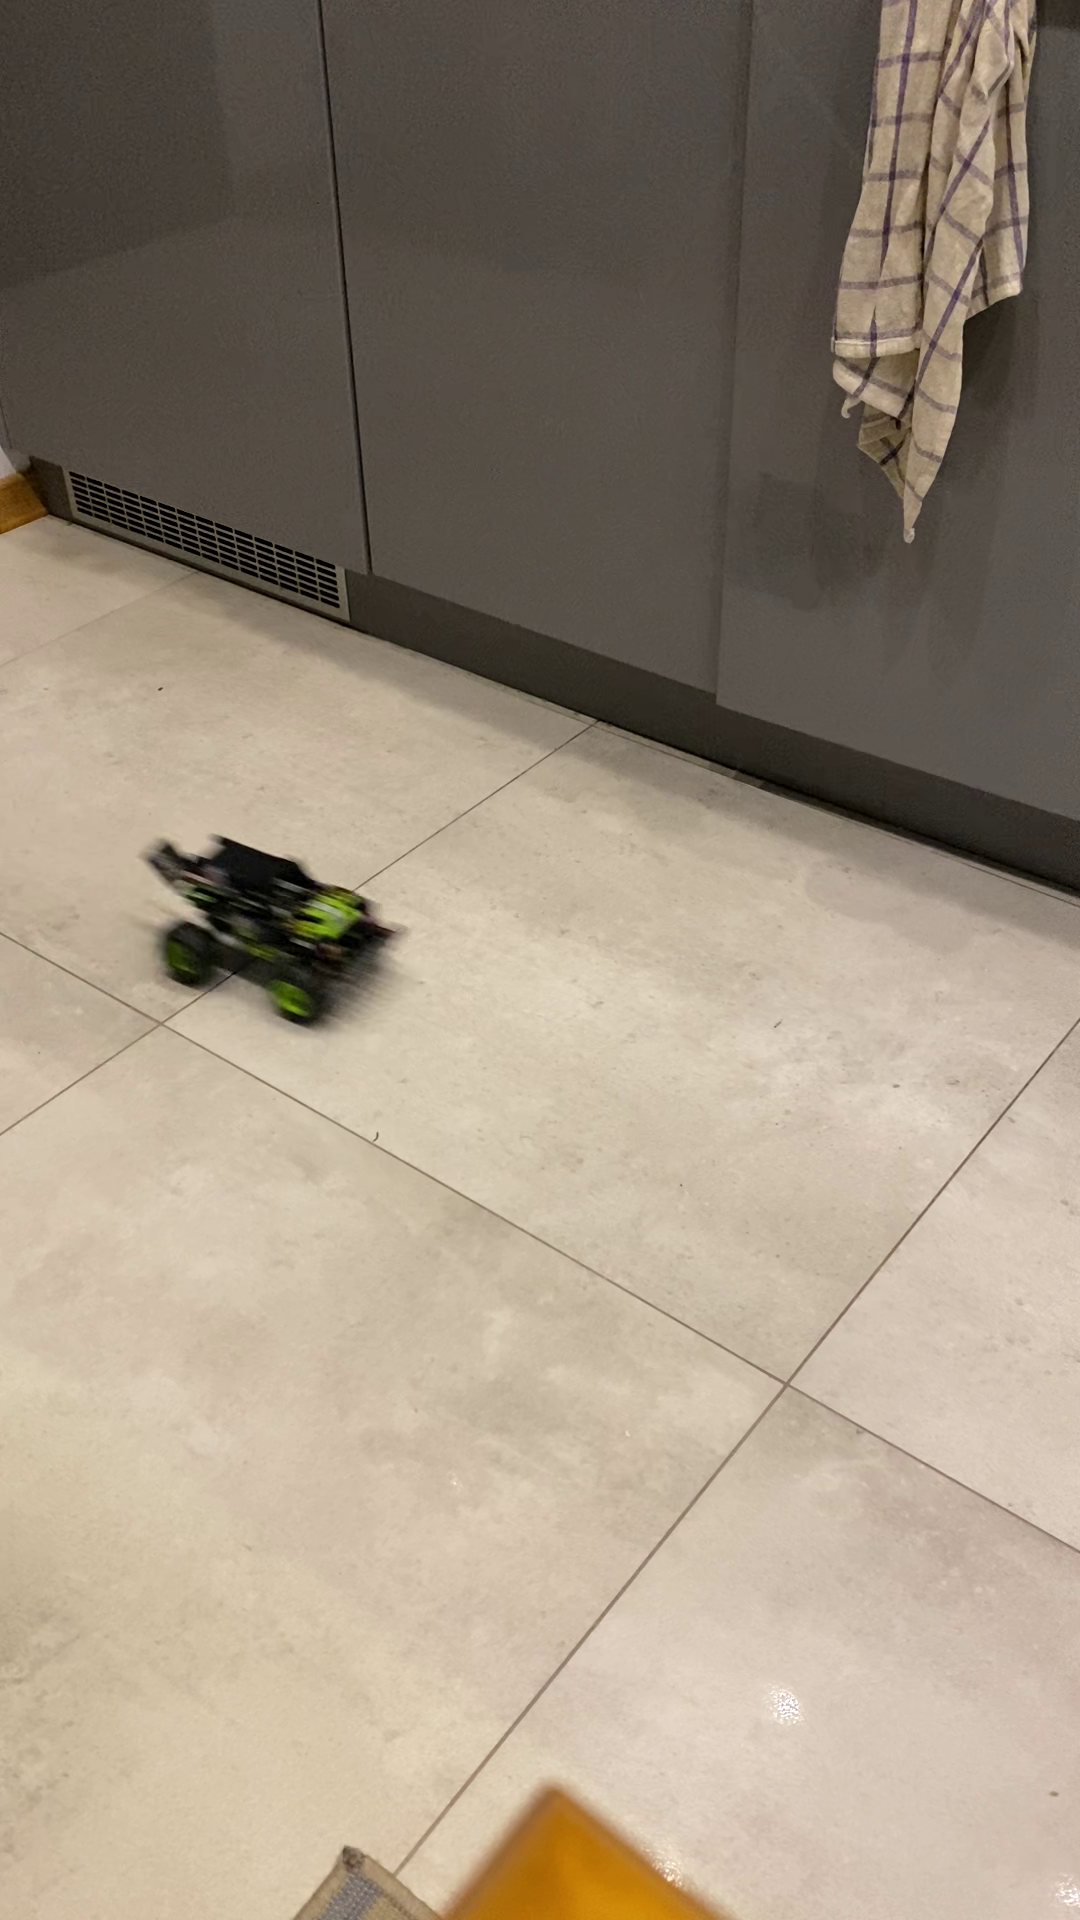car: (152, 820, 407, 1018)
